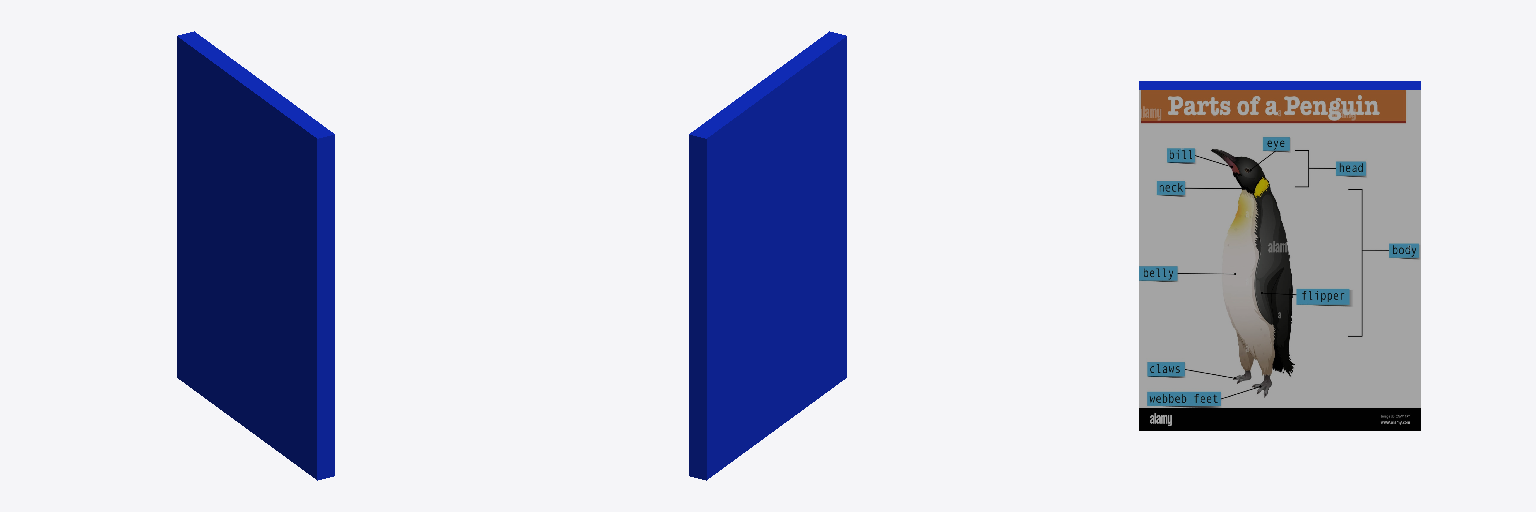
3 views of the same model, side by side, from view 1: azimuth 30°, elevation 25°; view 2: azimuth 150°, elevation 25°; view 3: azimuth 270°, elevation 25° (orthographic).
Parts seen in each view (by area): view 1: cartel.003_Cube.003; view 2: cartel.003_Cube.003; view 3: cartel.003_Cube.003.
Part boxes in pixels (bbox=[...]): cartel.003_Cube.003: bbox=[177, 31, 334, 480]; cartel.003_Cube.003: bbox=[689, 31, 846, 480]; cartel.003_Cube.003: bbox=[1139, 81, 1420, 430].
Bounding box in the file's own units: 0.1469 × 2.68 × 2.
Materials: 2 (1 with a texture image).